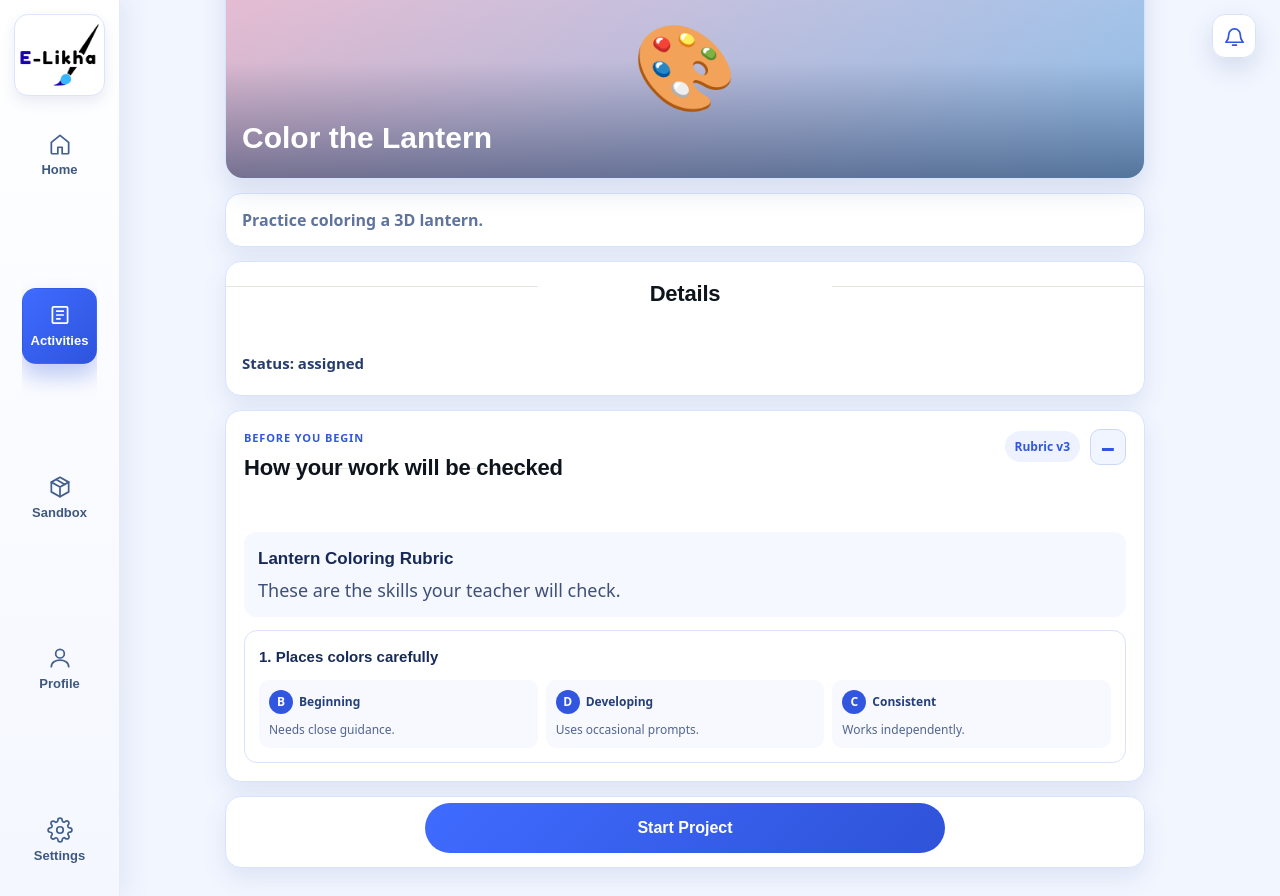
student ActivityDetails AR guide › shows the attached rubric and all developmental levels before work starts
The width and height of the screenshot is (1280, 896).
(page scrolled)
Expected: the element with class "activity-rubric-section" shows "How your work will be checked", [244, 455, 563, 480]
Expected: the element with class "activity-rubric-section" shows "Lantern Coloring Rubric", [258, 549, 454, 568]
Click the button with class "section-collapse-toggle". click: x=1108, y=447
box: [1090, 429, 1126, 465]
(page scrolled)
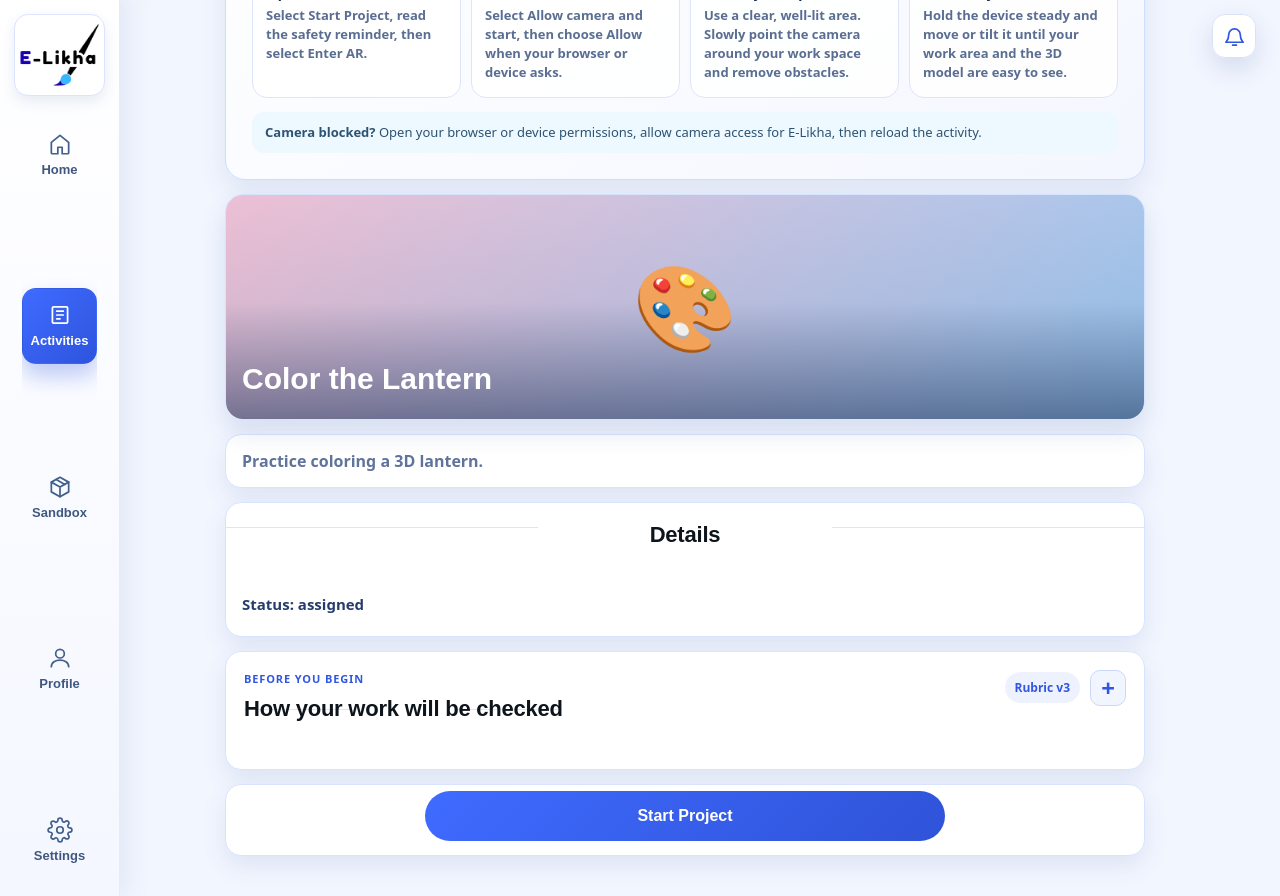
Expected: the button with class "section-collapse-toggle" is collapsed
Expected: the element with id "activity-rubric-content" is gone
Click the button with class "section-collapse-toggle". click: x=1108, y=688
box: [1090, 670, 1126, 706]
(page scrolled)
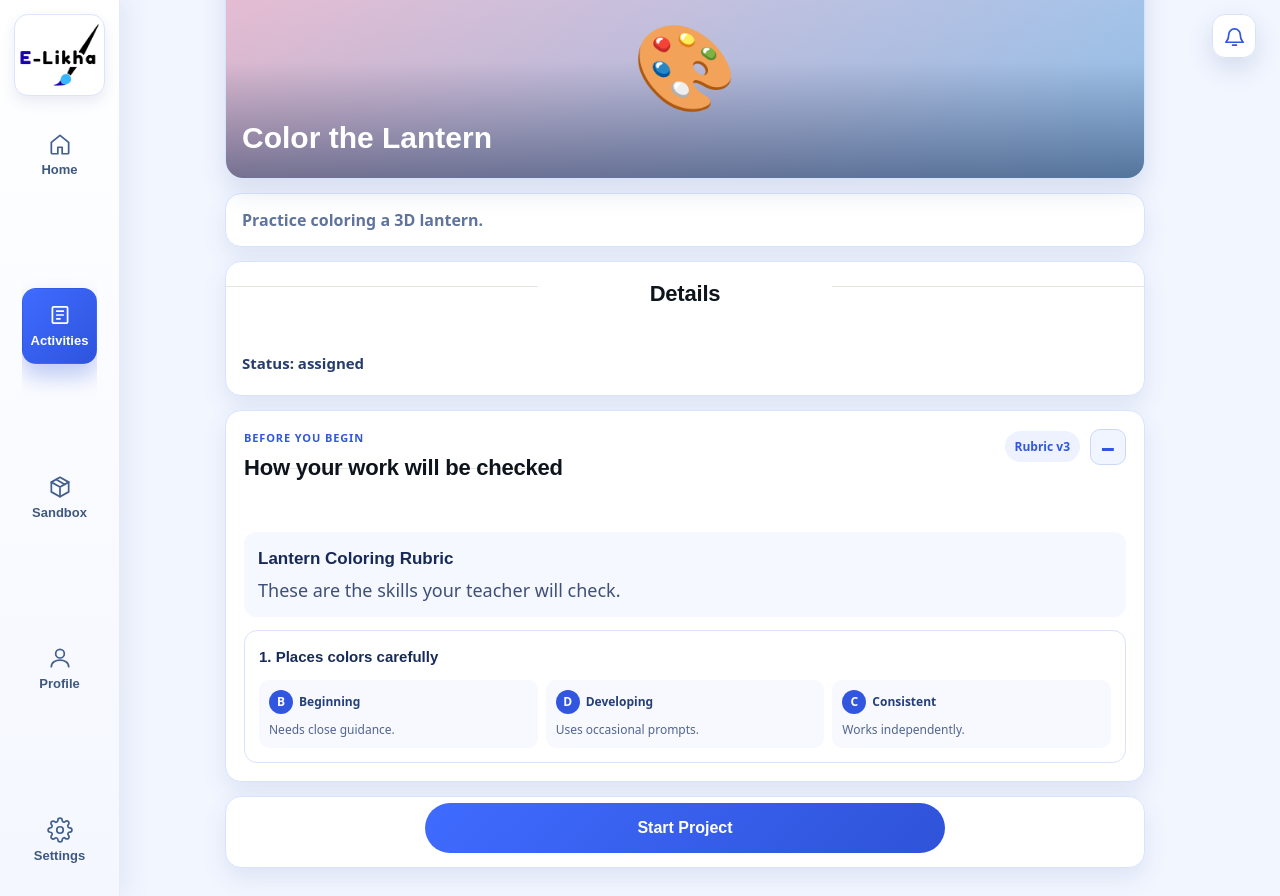
Expected: the button with class "section-collapse-toggle" is expanded, [1090, 429, 1126, 465]
Expected: the element with id "activity-rubric-content" is shown, [244, 518, 1126, 763]
